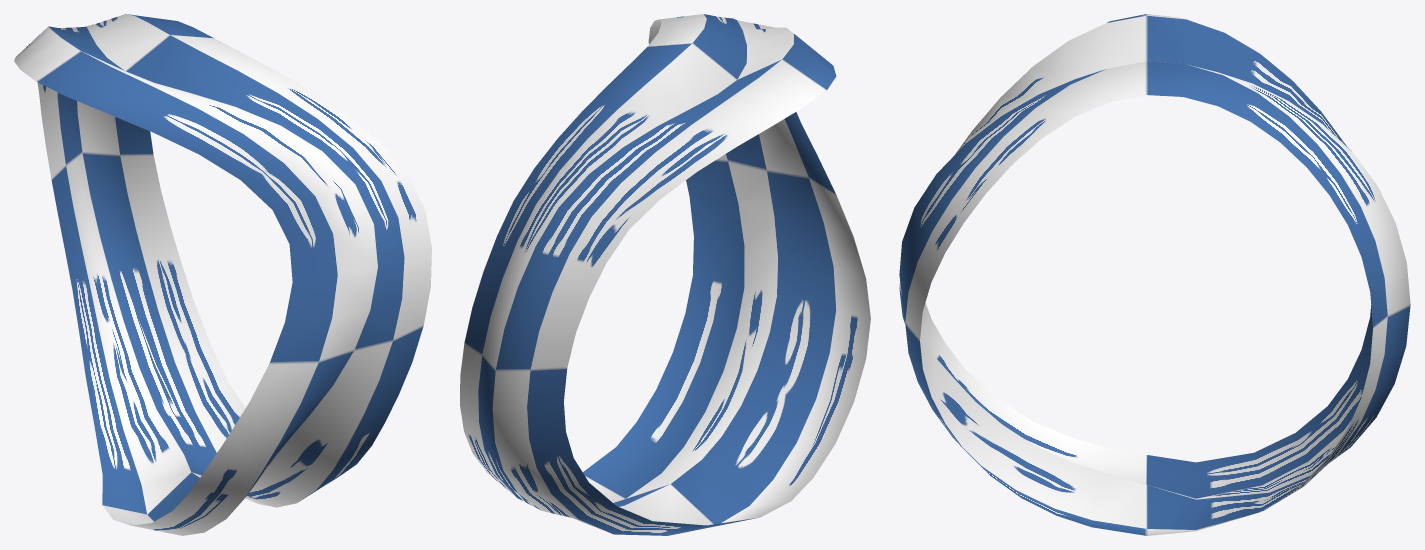
Rendered from Ring5.fbx.
3 views of the same model, side by side, from view 1: azimuth 30°, elevation 25°; view 2: azimuth 150°, elevation 25°; view 3: azimuth 270°, elevation 25° (orthographic). The views are drawn at different scales.
Visible parts, largest first — view 1: SM_e_cmn_Ring005; view 2: SM_e_cmn_Ring005; view 3: SM_e_cmn_Ring005.
Boxes of the visible parts, x1,y1,x2,y2 form: SM_e_cmn_Ring005: [14, 14, 431, 535]; SM_e_cmn_Ring005: [460, 14, 870, 535]; SM_e_cmn_Ring005: [899, 14, 1410, 535].
Bounding box in the file's own units: 63.91 × 104 × 108.
